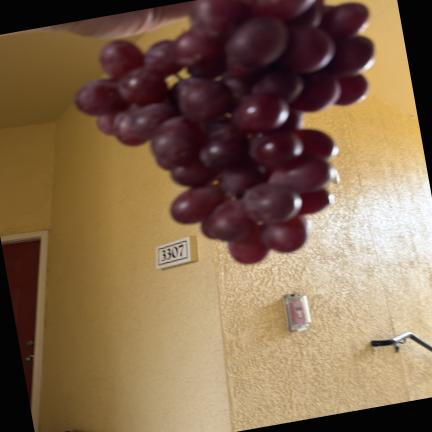grape_cluster: (76, 0, 374, 264)
